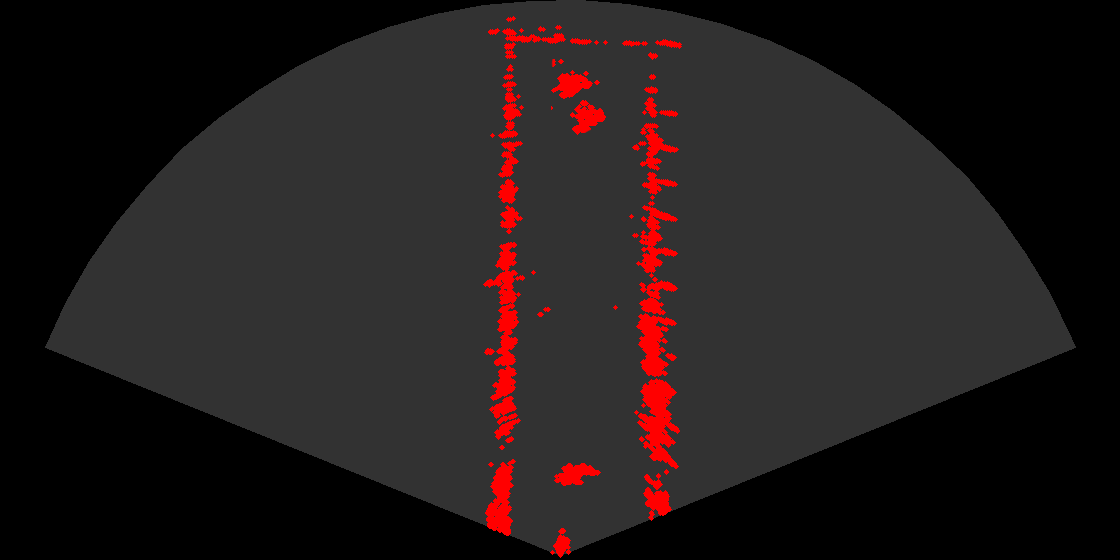AUV: (548, 461, 604, 493)
cage: (551, 59, 614, 143)
